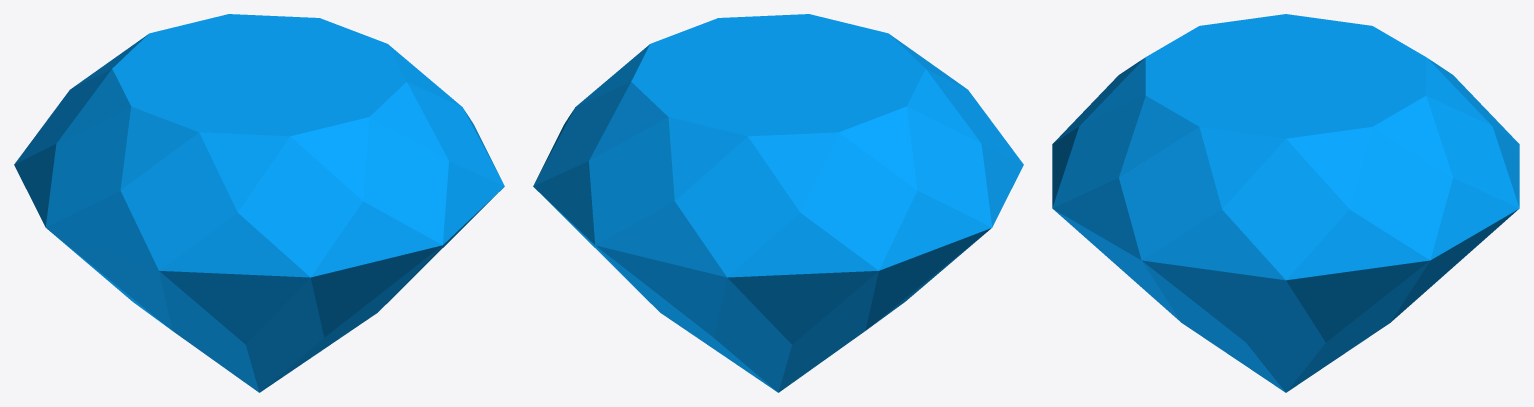
File: emerald.fbx
The picture shows the model from 3 angles, left to right: view 1: azimuth 30°, elevation 25°; view 2: azimuth 150°, elevation 25°; view 3: azimuth 270°, elevation 25°; orthographic projection.
Visible parts, largest first — view 1: Gem; view 2: Gem; view 3: Gem.
Boxes of the visible parts, <box> form: Gem: <box>14,14,504,392</box>; Gem: <box>533,14,1023,392</box>; Gem: <box>1052,14,1519,392</box>.
Bounding box in the file's own units: 2.31 × 1.64 × 2.19.
